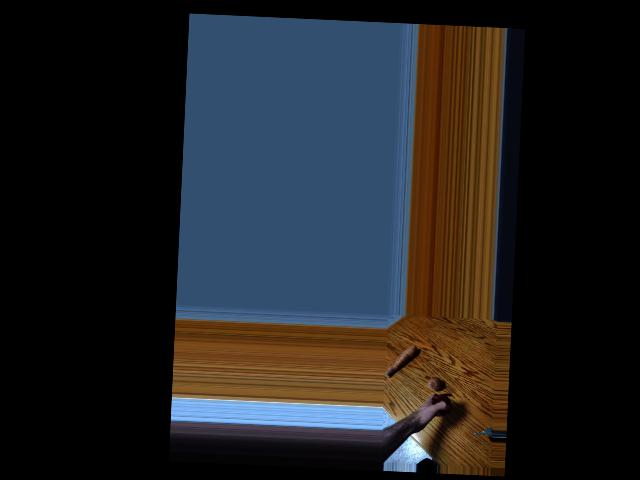onion: (429, 392, 449, 414)
